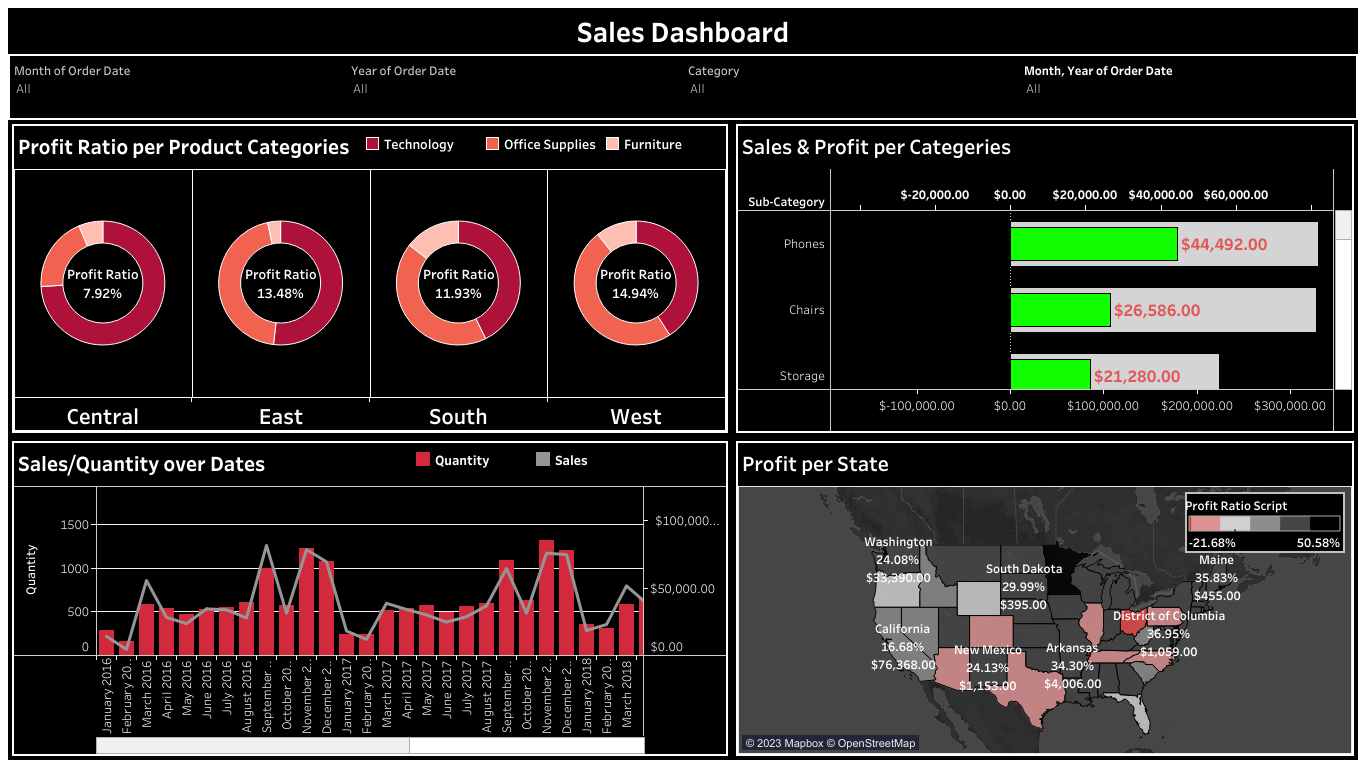

What the dashboard file says about the page in this screenshot:
{"tool":"tableau","page":{"name":"DASHBOARD","canvas":[1366,768],"ordinal":0},"visuals":[{"type":"title","box":[8,8,1350,45]},{"type":"filter","title":"Profit Ratio per Categories","param":"[federated.0lmxg7a01kl4iy19eyai8013mkya].[mn:Order Date:ok]","box":[10,55,337,62]},{"type":"filter","title":"Profit Ratio per Categories","param":"[federated.0lmxg7a01kl4iy19eyai8013mkya].[yr:Order Date:ok]","box":[347,55,337,62]},{"type":"filter","title":"Sales/Profit per Category","param":"[federated.0lmxg7a01kl4iy19eyai8013mkya].[none:Category:nk]","box":[684,55,336,62]},{"type":"filter","title":"Sales/Quantity over Dates","param":"[federated.0lmxg7a01kl4iy19eyai8013mkya].[my:Order Date:ok]","box":[1020,55,336,62]},{"type":"worksheet","title":"Profit Ratio per Categories","mark":"Pie","rows":["Calculation_284289780146122753","Calculation_284289780146143235"],"cols":["Region"],"box":[8,118.8,724,318.2]},{"type":"worksheet","title":"Sales/Profit per Category","mark":"Bar","rows":["Sub-Category"],"cols":["Sales","Profit"],"box":[732,118.8,626,318.2]},{"type":"legend","title":"Profit Ratio per Categories","param":"[federated.0lmxg7a01kl4iy19eyai8013mkya].[none:Category:nk]","box":[362,133,363,28]},{"type":"worksheet","title":"Sales/Quantity over Dates","mark":"Automatic","rows":["Quantity","Sales"],"cols":["Order Date"],"box":[8,437,724,323]},{"type":"worksheet","title":"Sales per State","mark":"Multipolygon","box":[732,437,626,323]},{"type":"legend","title":"Sales/Quantity over Dates","param":"[federated.0lmxg7a01kl4iy19eyai8013mkya].[:Measure Names]","box":[413,449,247,31]},{"type":"legend","title":"Sales per State","param":"[federated.0lmxg7a01kl4iy19eyai8013mkya].[usr:Calculation_284289780146237444:qk]","box":[1185,492,160,76]}]}

Visuals, with their boxes in screenshot pixels (x1, y1, x2, y2), scaled from the page's 1366x768 canvas onto the 1365x767 screenshot:
title: <box>8,8,1357,53</box>
"Profit Ratio per Categories" filter: <box>10,55,347,117</box>
"Profit Ratio per Categories" filter: <box>347,55,683,117</box>
"Sales/Profit per Category" filter: <box>683,55,1019,117</box>
"Sales/Quantity over Dates" filter: <box>1019,55,1355,117</box>
"Profit Ratio per Categories" worksheet (Pie marks): <box>8,119,731,436</box>
"Sales/Profit per Category" worksheet (Bar marks): <box>731,119,1357,436</box>
"Profit Ratio per Categories" legend: <box>362,133,724,161</box>
"Sales/Quantity over Dates" worksheet: <box>8,436,731,759</box>
"Sales per State" worksheet (Multipolygon marks): <box>731,436,1357,759</box>
"Sales/Quantity over Dates" legend: <box>413,448,660,479</box>
"Sales per State" legend: <box>1184,491,1344,567</box>
